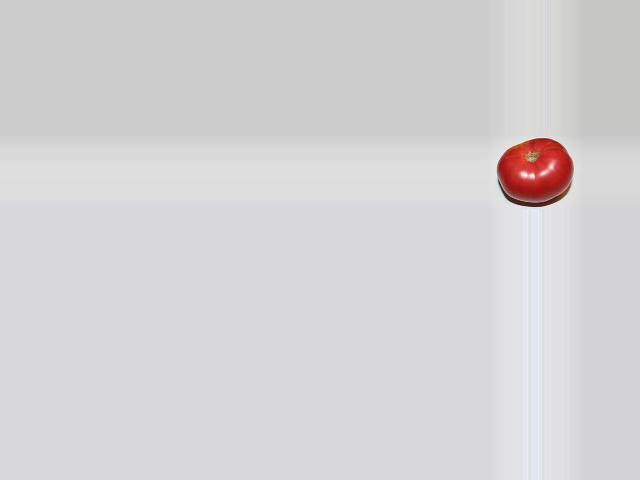tomato: (496, 137, 574, 201)
